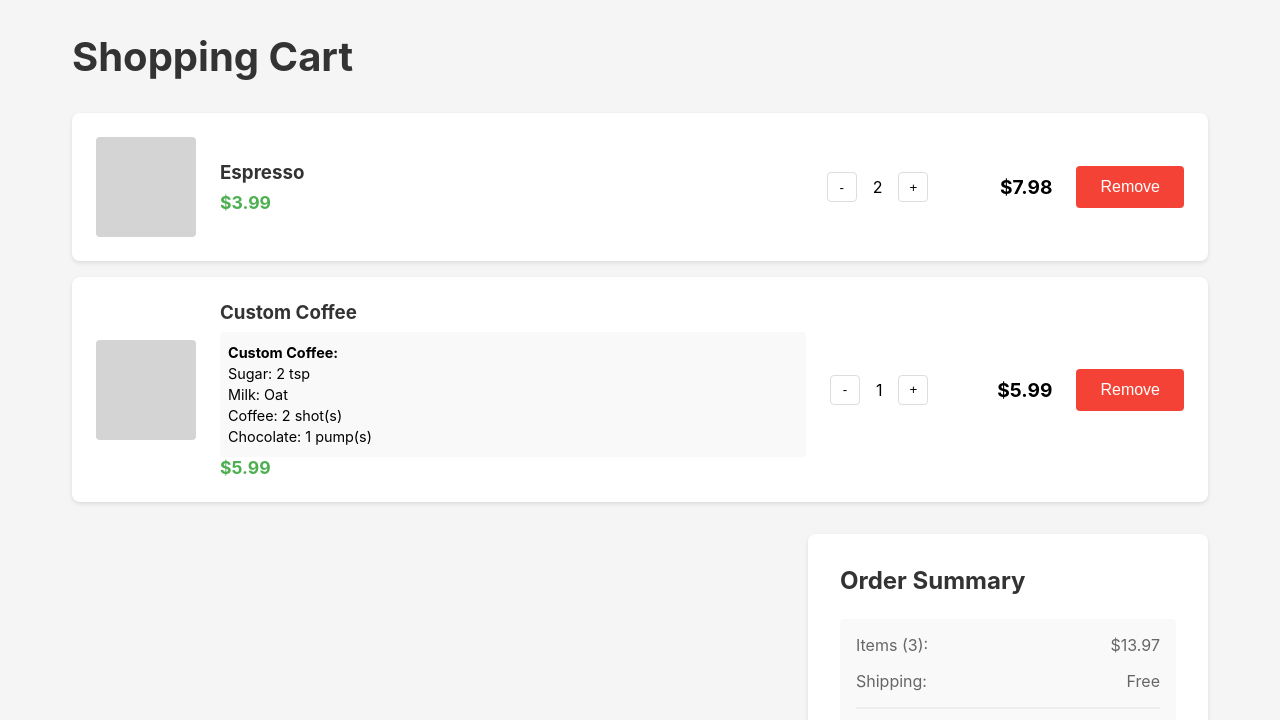
Test: Cart Page › decrements item quantity
expect the heading "Espresso" is shown: met, box [220, 161, 304, 184]
Click the button "-" in the row of "7.98" at (842, 187), box [827, 172, 857, 202]
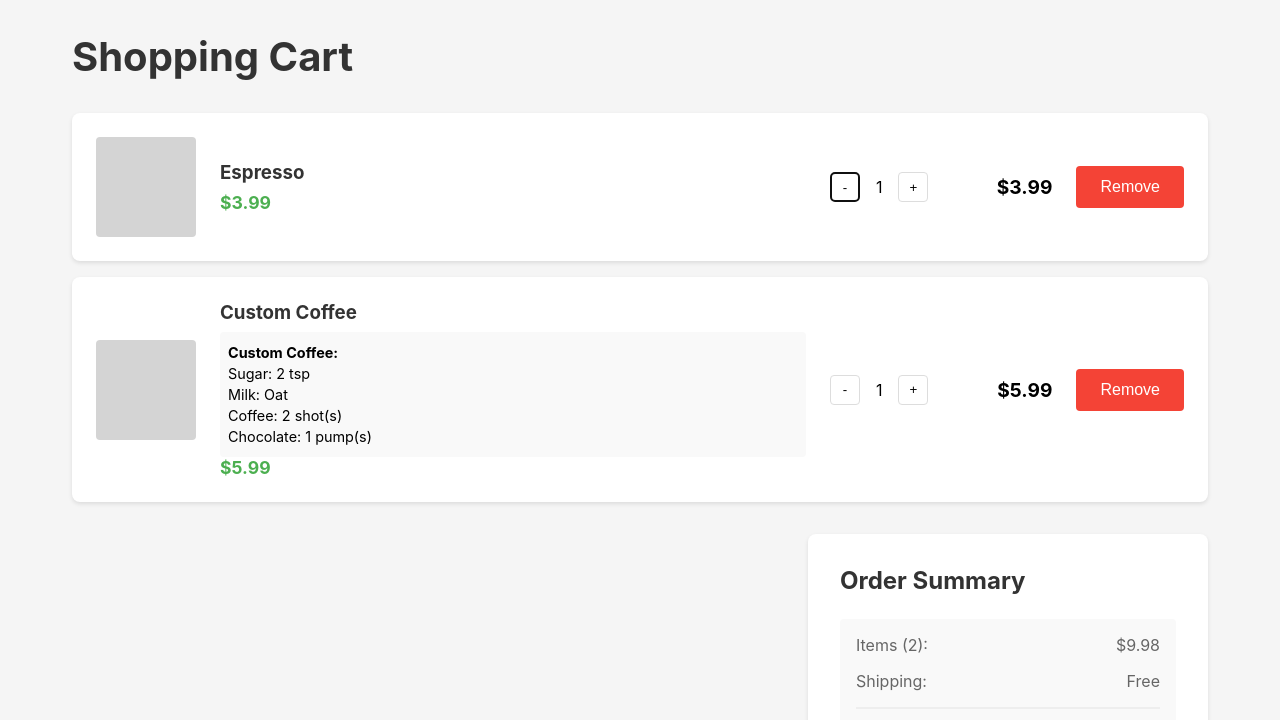
expect the text "$9.98" is shown: met, box [1116, 635, 1160, 655]
